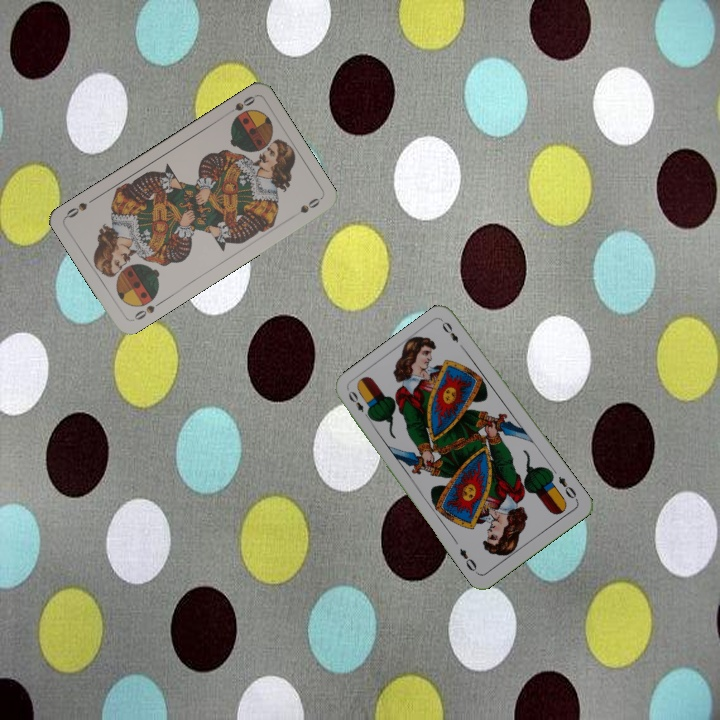EO: (344, 387, 374, 422), (554, 472, 580, 503)
SO: (128, 297, 165, 324), (221, 92, 258, 118)
